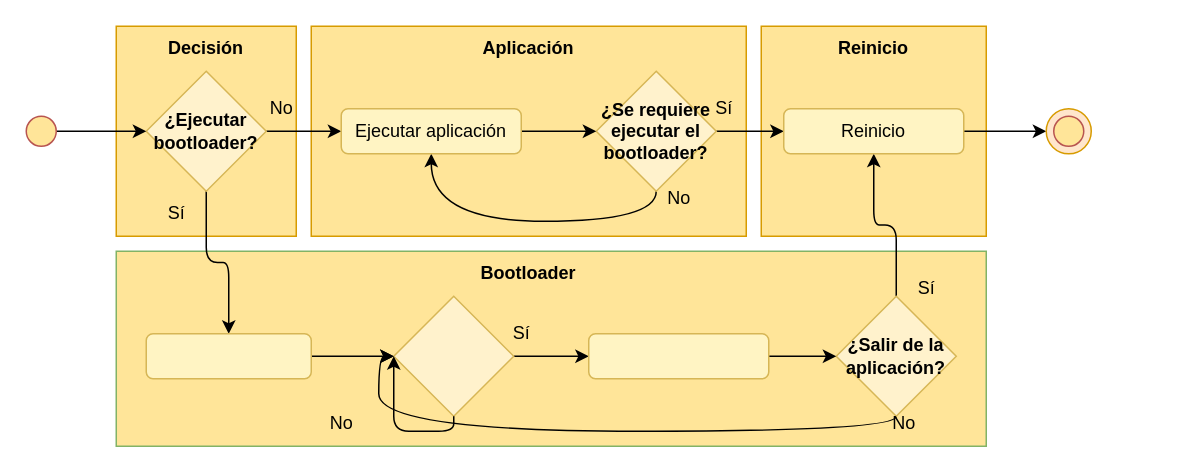
The diagram is 1178 pixels wide and 473 high, and some of its shapes have lost their labels. The centre of each missing label's shape, as x and y in pixels:
"Ejecutar comandos" goes at pixel 678 355.
"Inicializar bootloader" goes at pixel 228 355.
"¿Comando recibido?" goes at pixel 453 355.
